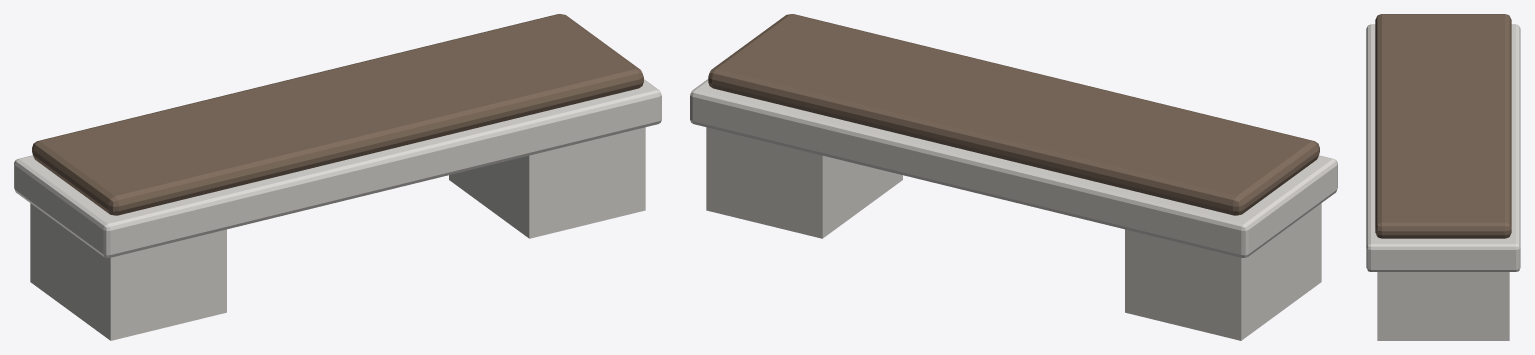
Rendered from museum_bench.glb.
3 renders of one model, left to right at view 1: azimuth 30°, elevation 25°; view 2: azimuth 150°, elevation 25°; view 3: azimuth 270°, elevation 25°, orthographic. The views are drawn at different scales.
Visible parts, largest first — view 1: museum_bench; view 2: museum_bench; view 3: museum_bench.
Boxes of the visible parts, x1=… form: museum_bench: x1=14, y1=14, x2=661, y2=340; museum_bench: x1=690, y1=14, x2=1337, y2=340; museum_bench: x1=1366, y1=14, x2=1520, y2=340.
Size of the model in its own units: 2.4 by 0.58 by 0.6999.
